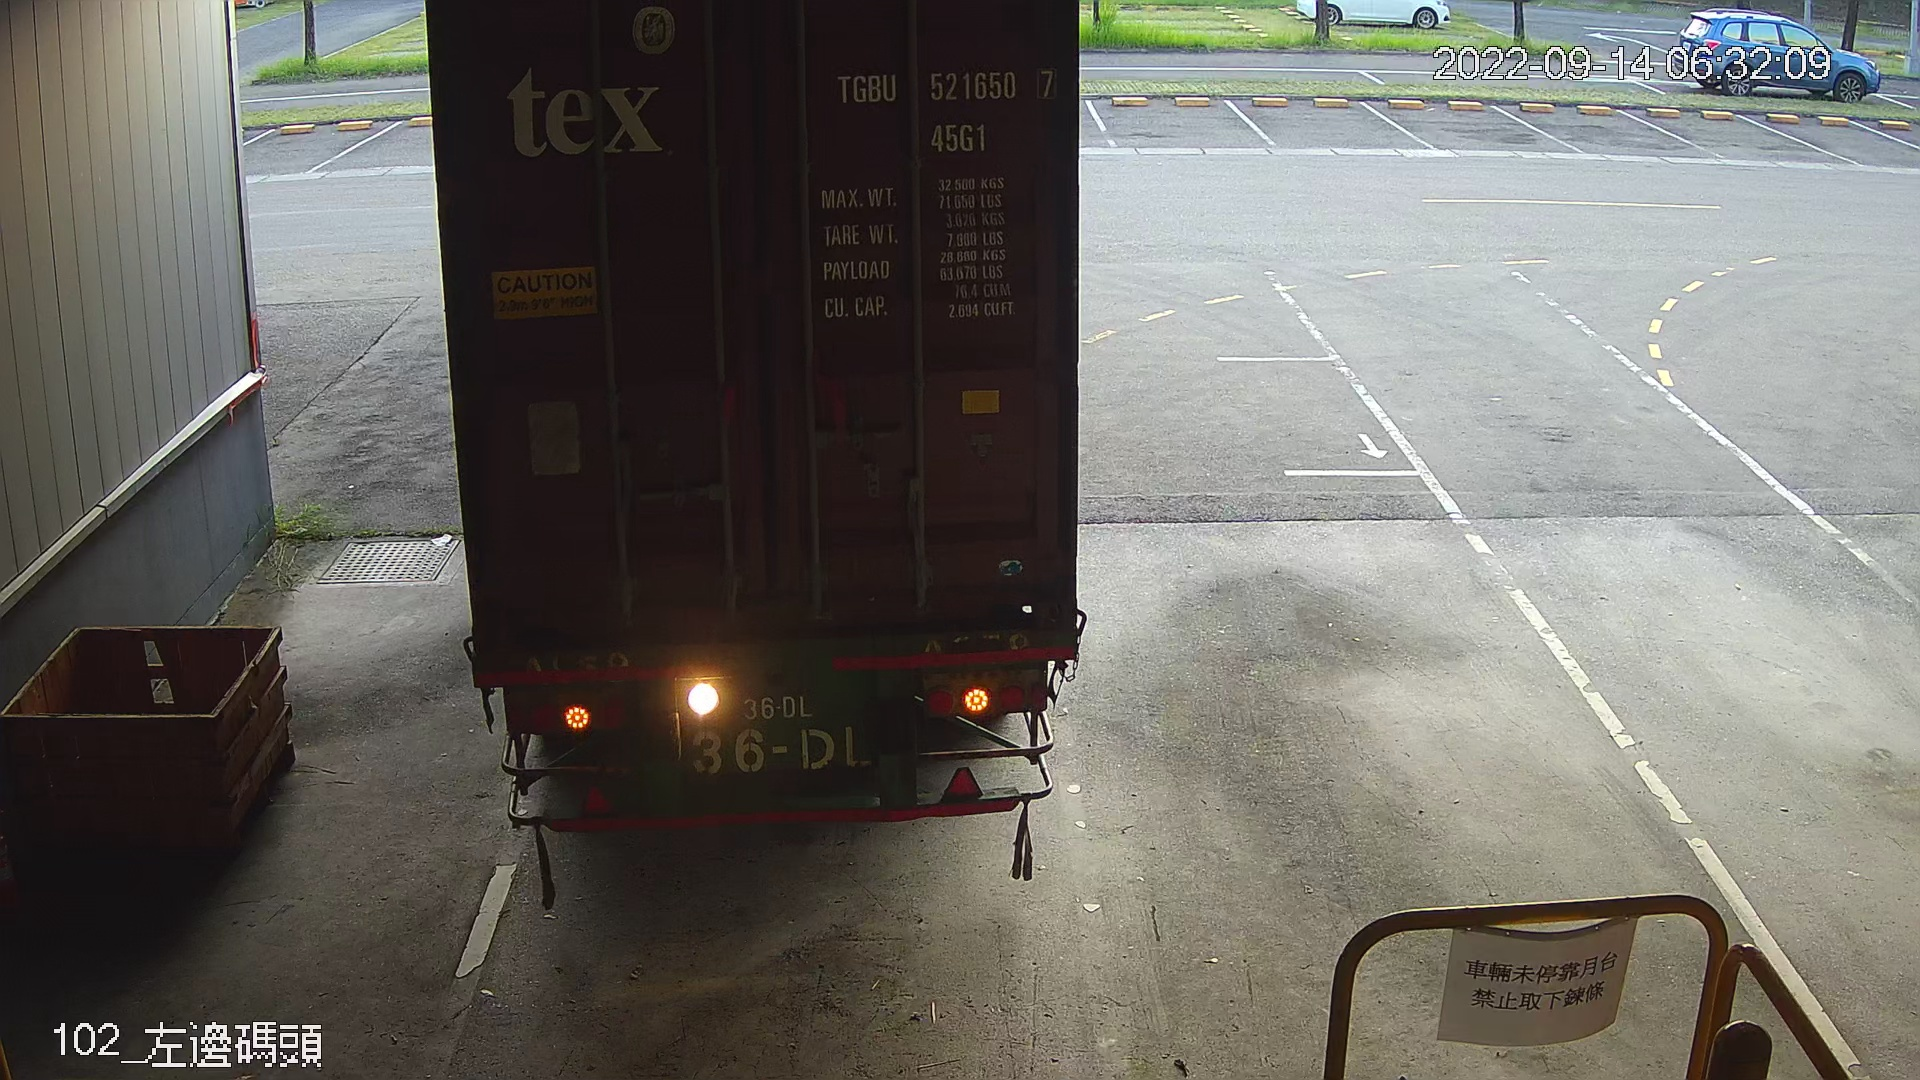container: (823, 58, 1065, 160)
